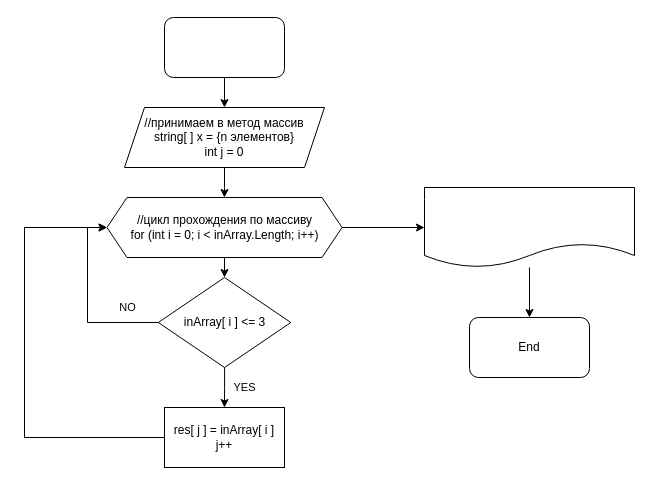
The diagram is 652 pixels wide and 485 high, and some of its shapes have lost their labels. Each missing label, with the box of its shape:
//выводим получившийся массив res[ ] = {n элементов}: (424, 186, 634, 268)
Start: (164, 16, 284, 78)
